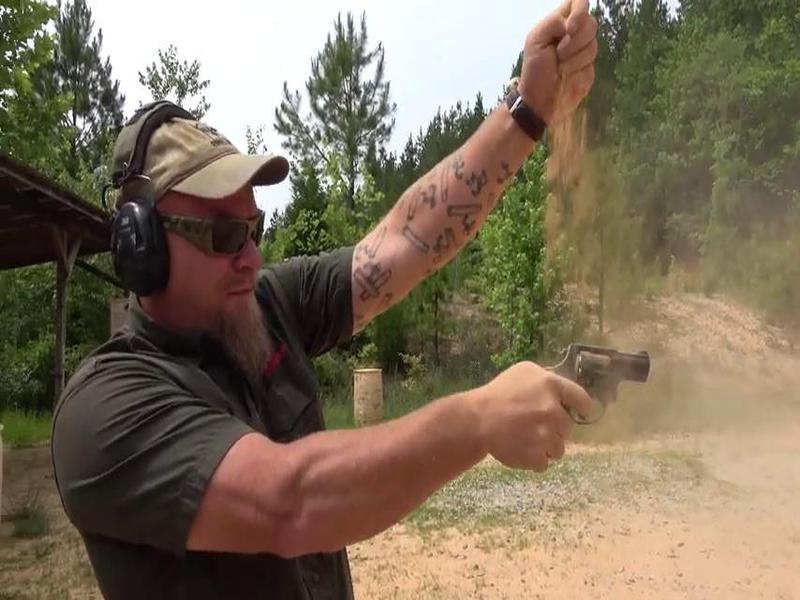Revolver: (525, 328, 685, 434)
